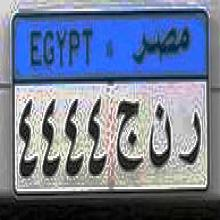4: (42, 97, 60, 177), (65, 99, 81, 178), (20, 98, 36, 177), (88, 98, 104, 176)
jeem: (116, 96, 140, 170)
noon: (147, 103, 174, 166)
raa: (178, 108, 204, 166)
